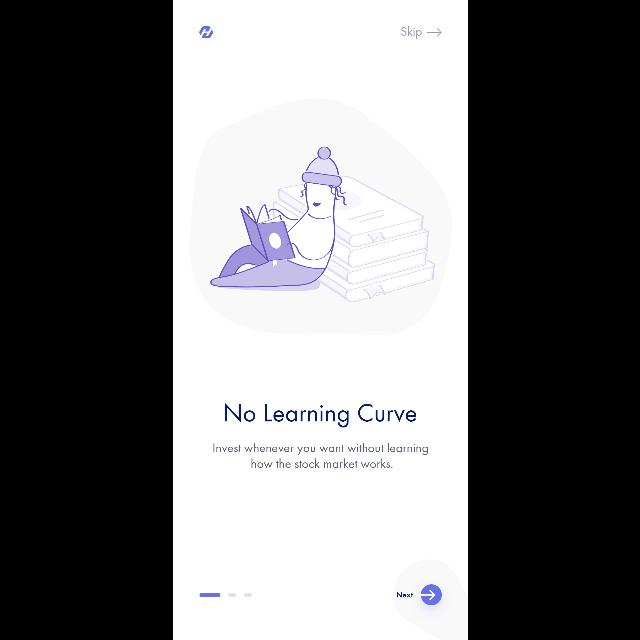icon: (421, 584, 442, 606), (426, 29, 442, 37)
image: (189, 99, 451, 334)
pageindicator: (198, 593, 252, 597)
text: (212, 442, 428, 468), (224, 404, 416, 428), (401, 26, 422, 40), (396, 592, 412, 598)
